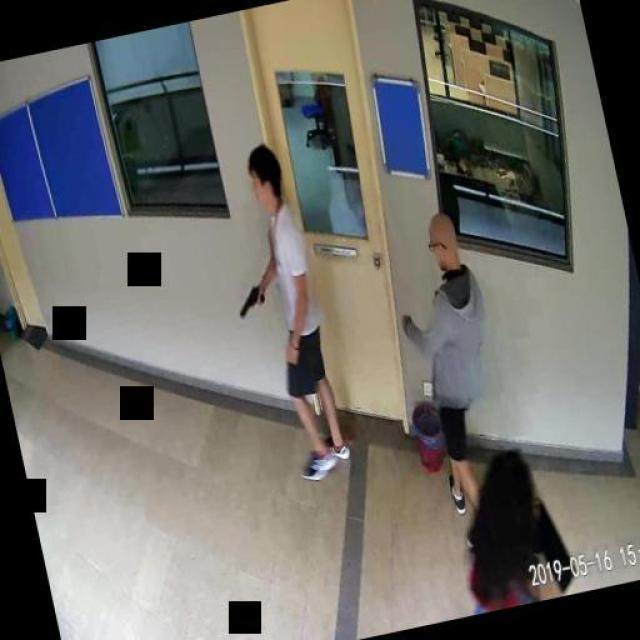gun: (232, 282, 266, 316)
